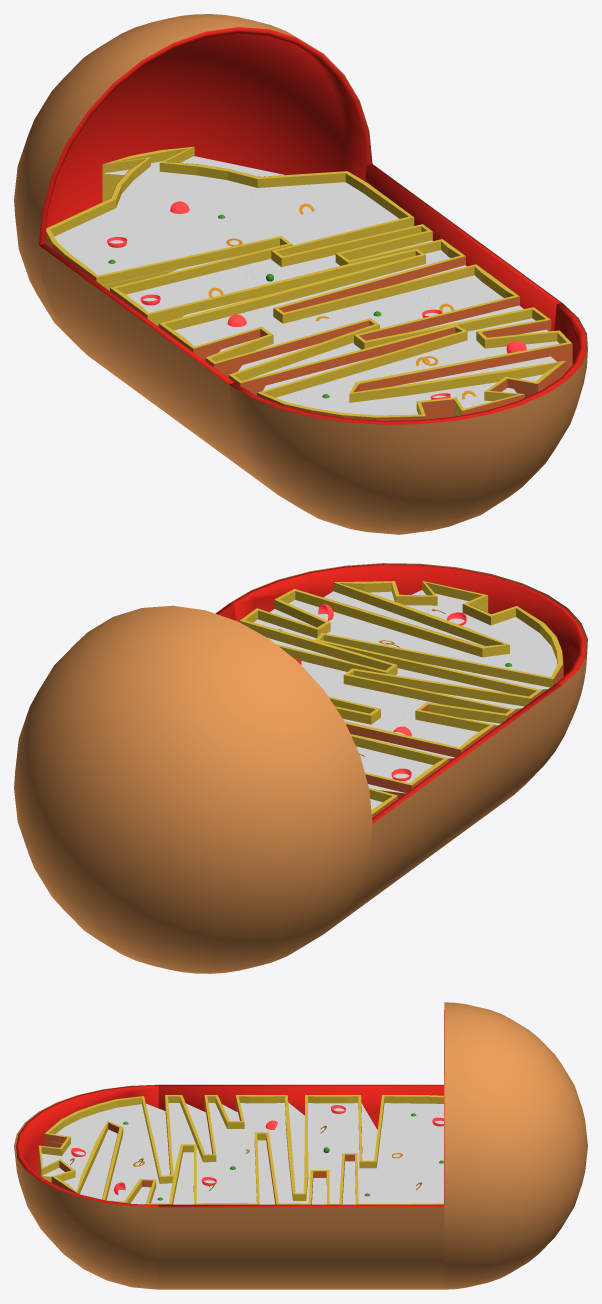
File: mitokondria.fbx
3 renders of one model, top to bottom at view 1: azimuth 30°, elevation 25°; view 2: azimuth 150°, elevation 25°; view 3: azimuth 270°, elevation 25°, orthographic. The views are drawn at different scales.
Parts seen in each view (by area): view 1: Sphere, Sphere.008, Circle.001, Circle.003, Circle.002; view 2: Sphere, Circle.003, Circle.001, Sphere.008, Circle.002; view 3: Sphere, Circle.001, Circle.003, Sphere.008, Circle.002.
Boxes of the visible parts, x1,y1,x2,y2 form: Sphere: (14, 14, 587, 534); Sphere.008: (39, 27, 586, 424); Circle.001: (54, 156, 559, 415); Circle.003: (46, 147, 571, 417); Circle.002: (45, 146, 572, 420); Sphere: (14, 563, 587, 973); Circle.003: (239, 581, 562, 814); Circle.001: (254, 590, 557, 810); Sphere.008: (216, 564, 586, 823); Circle.002: (241, 581, 563, 817); Sphere: (14, 1002, 587, 1289); Circle.001: (42, 1103, 443, 1204); Circle.003: (39, 1095, 443, 1204); Sphere.008: (16, 1010, 444, 1207); Circle.002: (38, 1095, 438, 1204).
Size of the model in its own units: 202 by 200 by 400.
